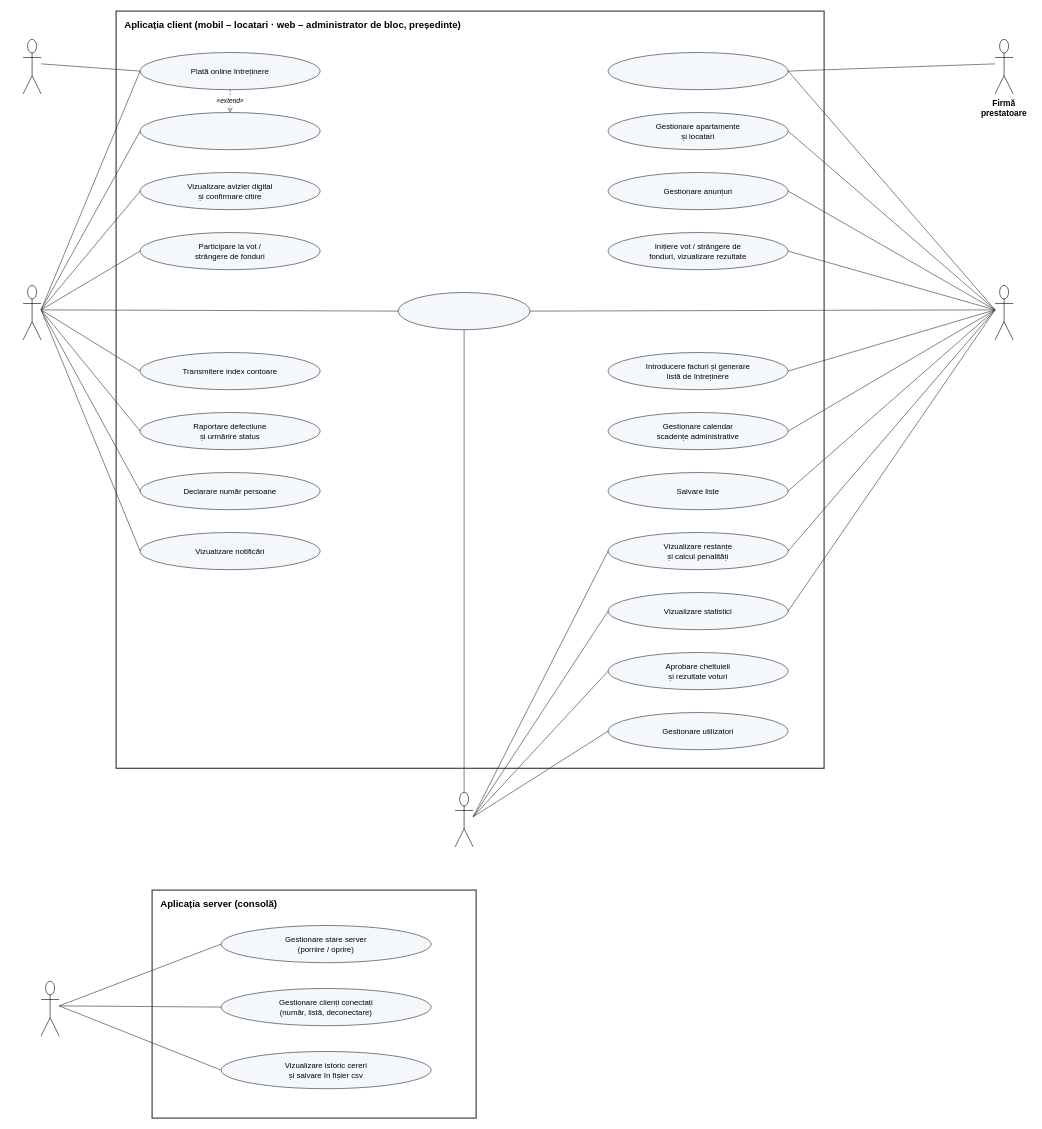
Image size: 1042x1129. Some labels were removed from this diagram. Each missing label, with the centre of its shape:
"Administrator de bloc" belongs at point (1003, 312).
"Administrator de sistem" belongs at point (49, 1008).
"Autentificare" belongs at point (464, 311).
"Gestionare sesizări" belongs at point (698, 71).
"Locatar" belongs at point (31, 312).
"Președinte de asociație" belongs at point (463, 819).
"Procesator plăți (Stripe)" belongs at point (31, 66).
"Vizualizare listă întreținere, istoric plăți și chitanțe" belongs at point (230, 131).
